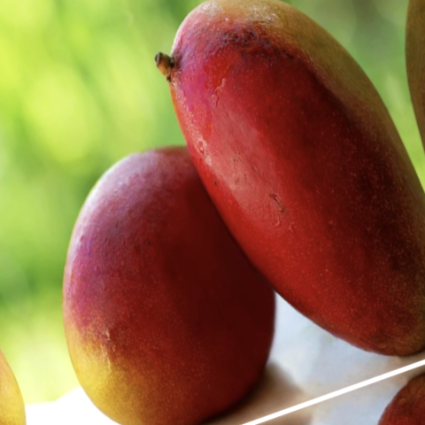mango: (116, 0, 425, 421), (0, 111, 341, 425)
